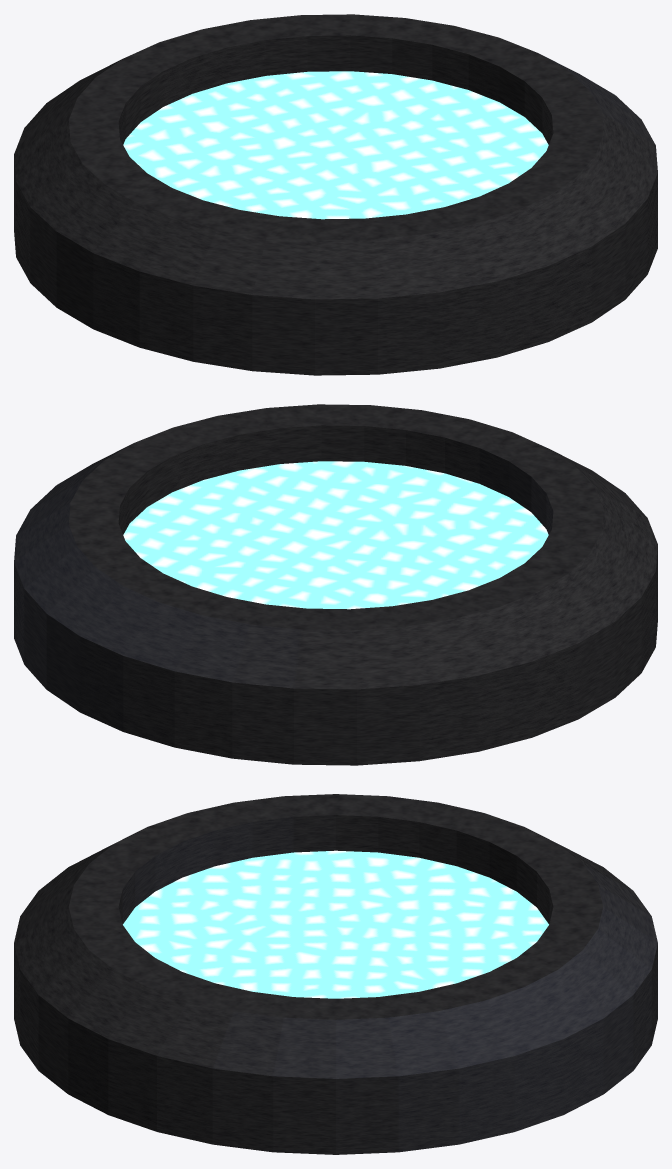
File: BasePowerUp.fbx
3 renders of one model, top to bottom at view 1: azimuth 30°, elevation 25°; view 2: azimuth 150°, elevation 25°; view 3: azimuth 270°, elevation 25°, orthographic.
Visible parts, largest first — view 1: BaseToExport; view 2: BaseToExport; view 3: BaseToExport.
Boxes of the visible parts, x1,y1,x2,y2 form: BaseToExport: (14,14,657,375); BaseToExport: (14,404,657,765); BaseToExport: (14,794,657,1154).
Size of the model in its own units: 90.81 by 17.42 by 90.81.
